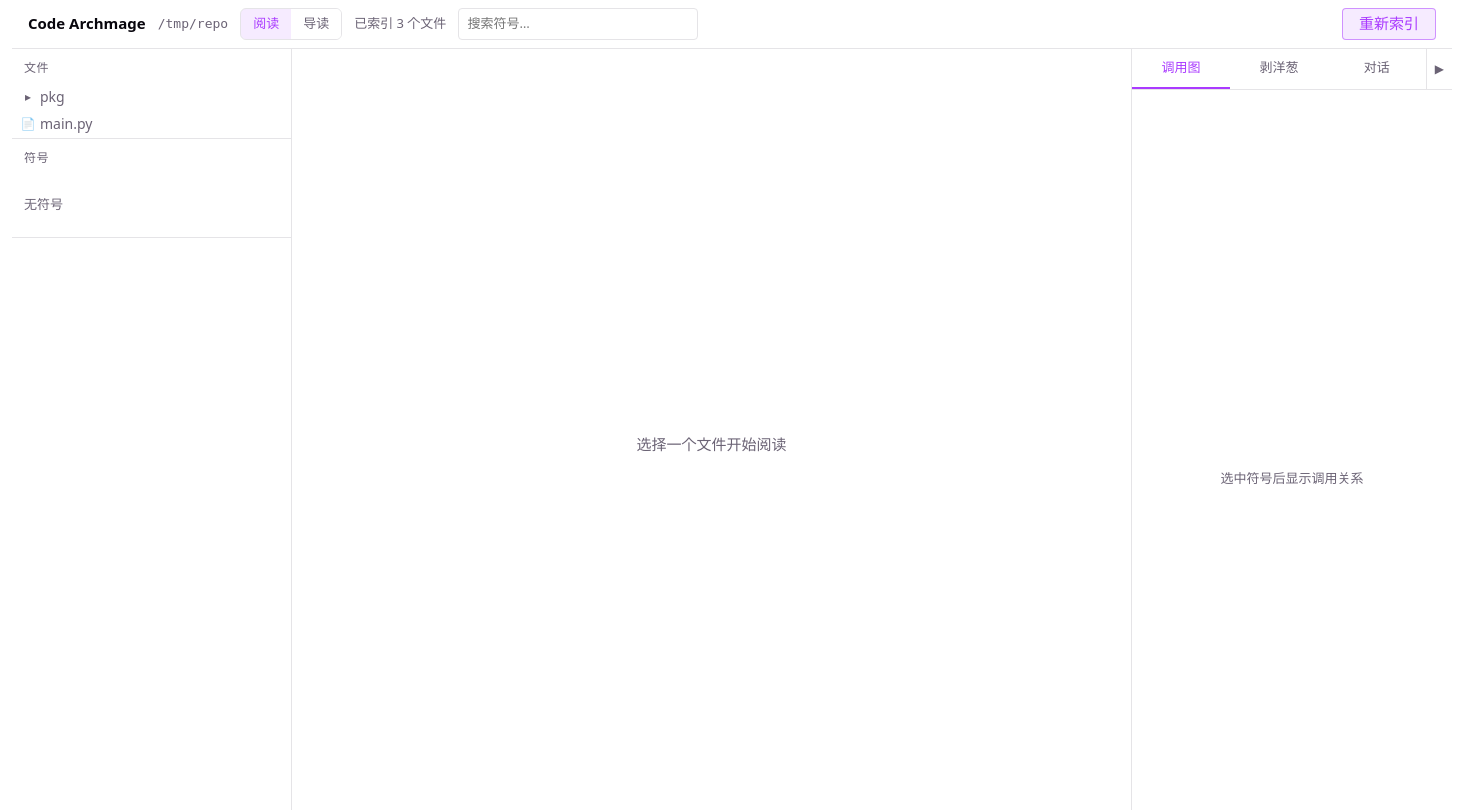
Test: App — 阅读模式导读入口（Stage 8：任何打开的文件都有入口） › 无导读 → 显示「生成并查看导读」，点击切导读模式并自动生成一次
Click the text "main.py".
click(66, 124)  # box [40,113,92,135]
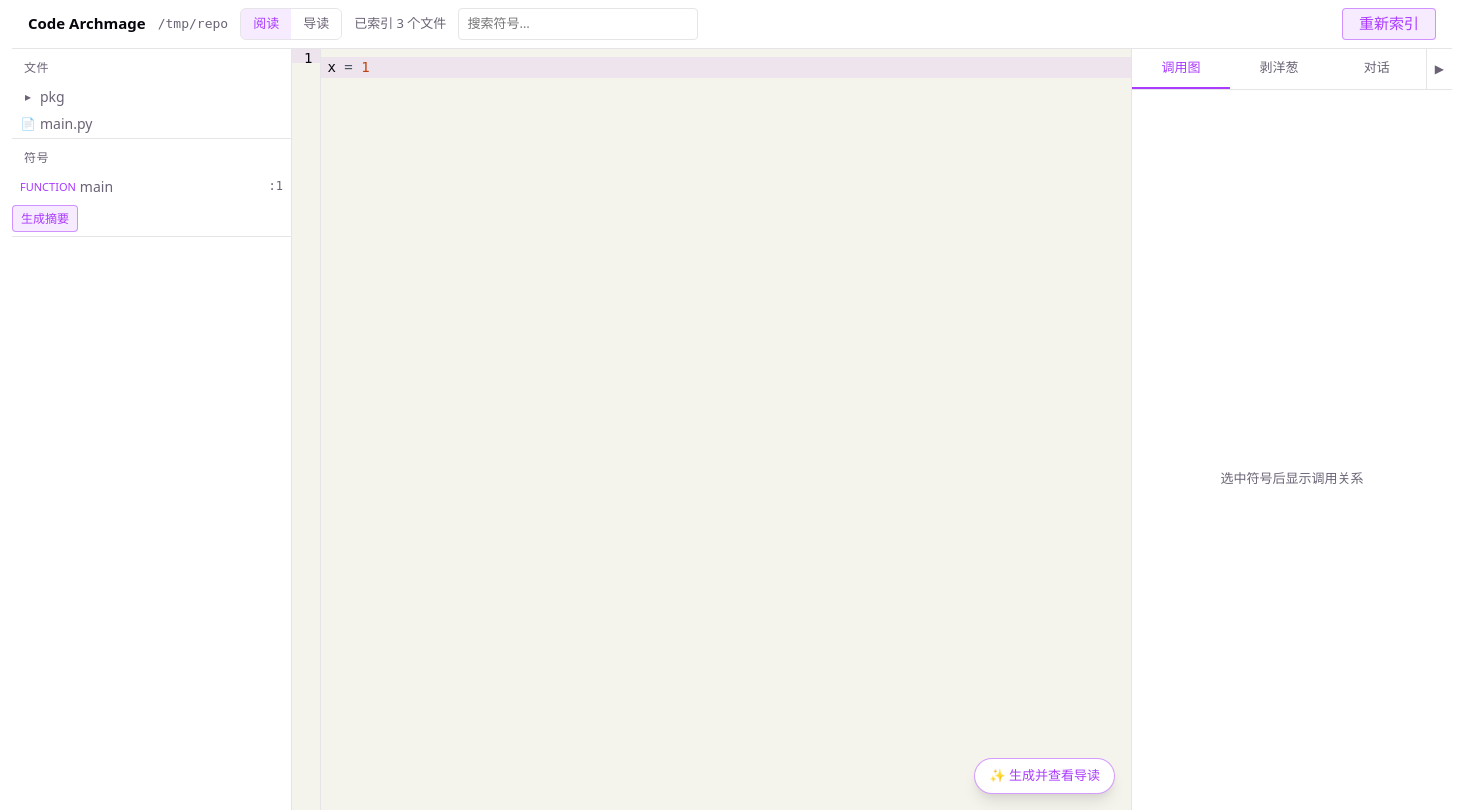
Result: the field with class "cm-content" is shown at [321,57,1131,78]
Click the button "✨ 生成并查看导读".
click(1045, 776)  # box [974,758,1115,794]
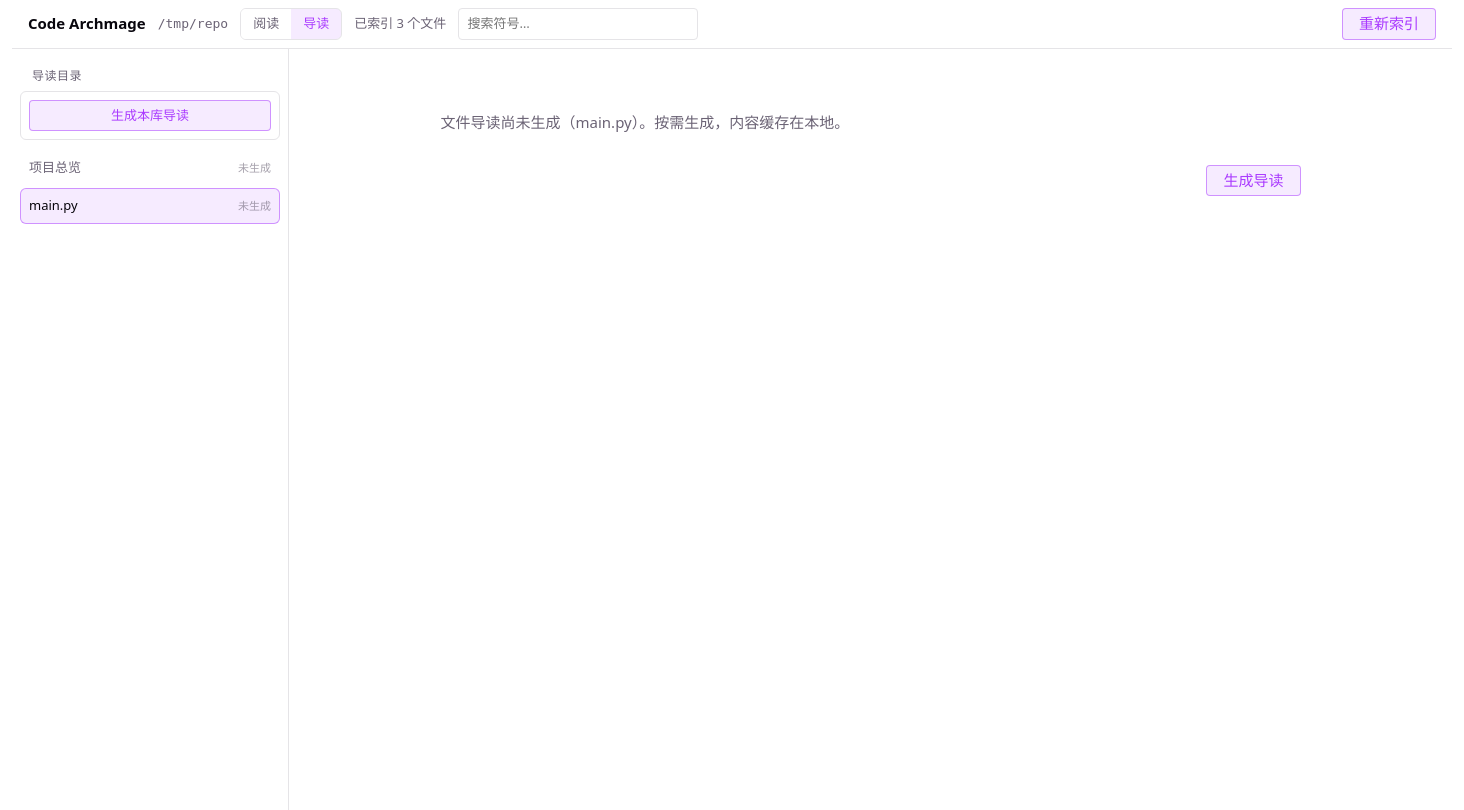
Result: the heading "导读目录" is shown at [32,67,82,84]
